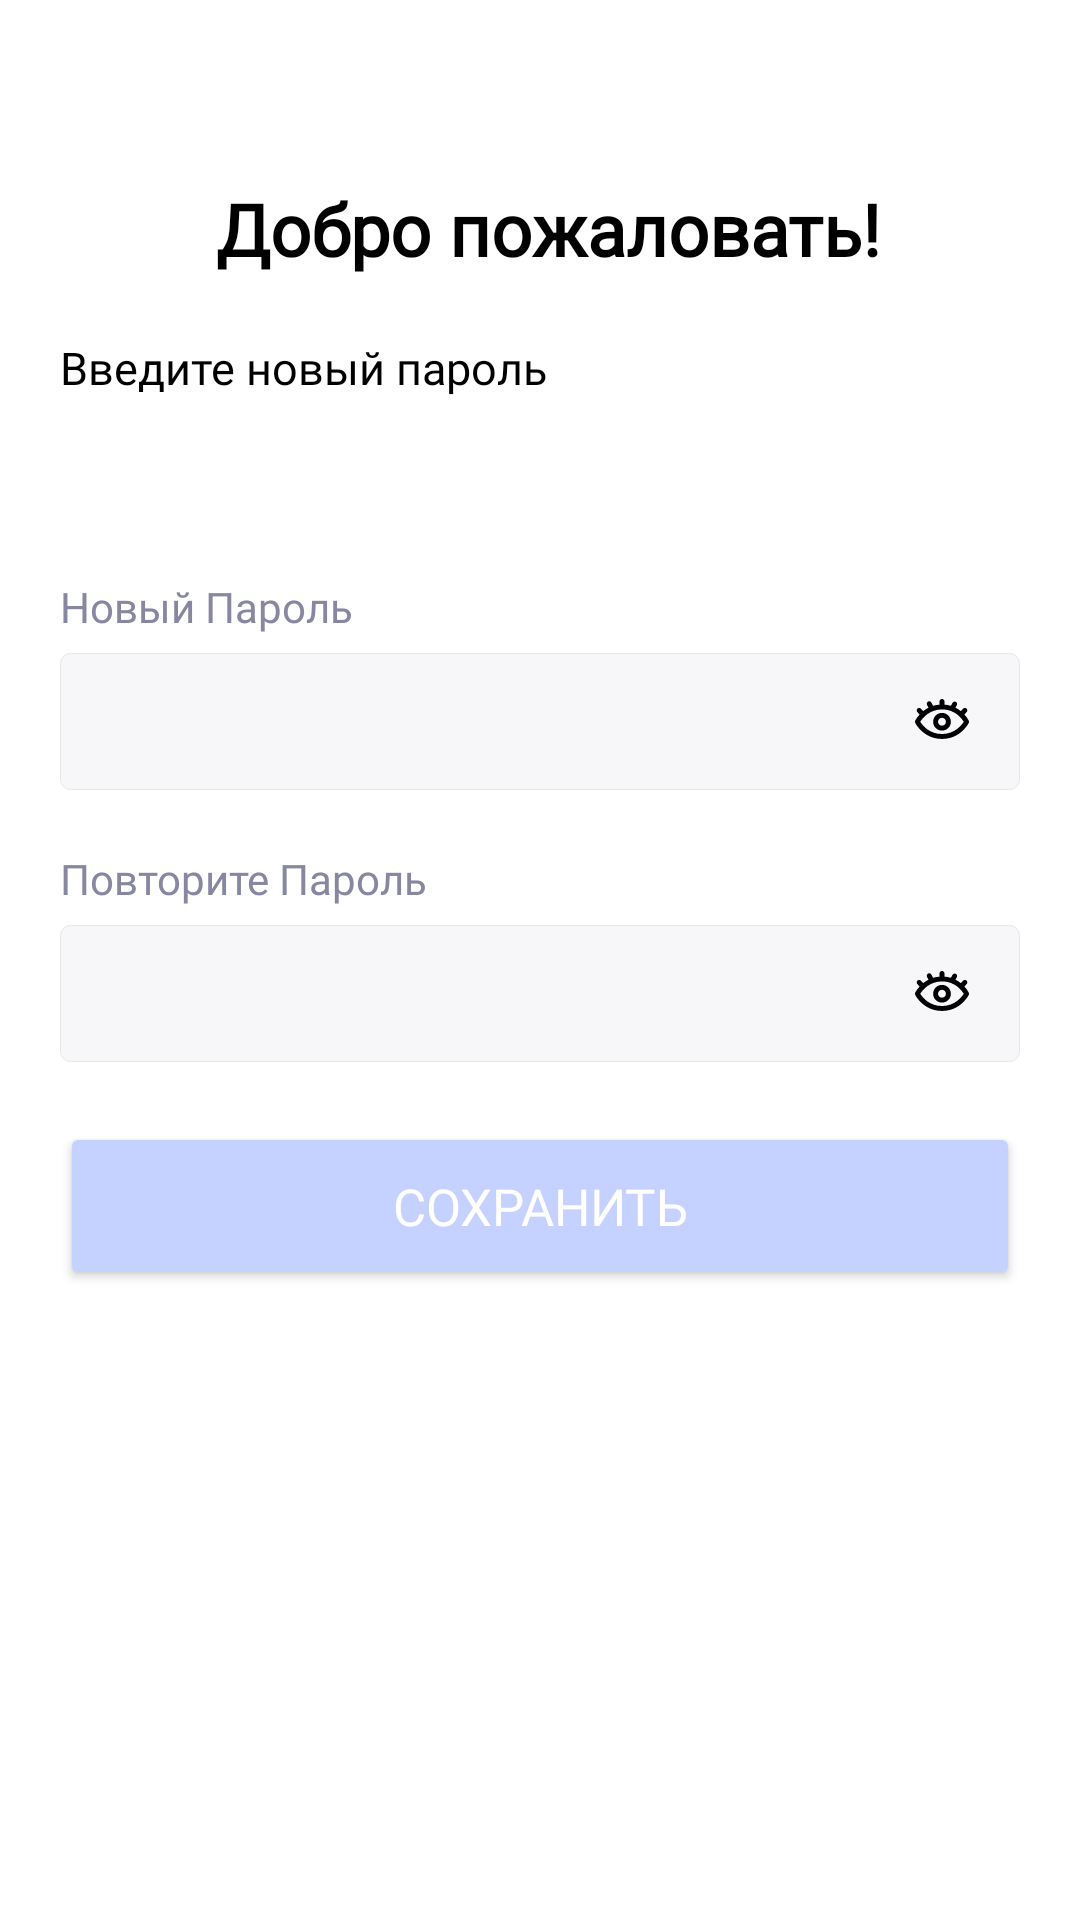

Icons on this 1080*1920 Android screen, each with the point to tap as (x,y):
eye: (942,719), (942,991)
